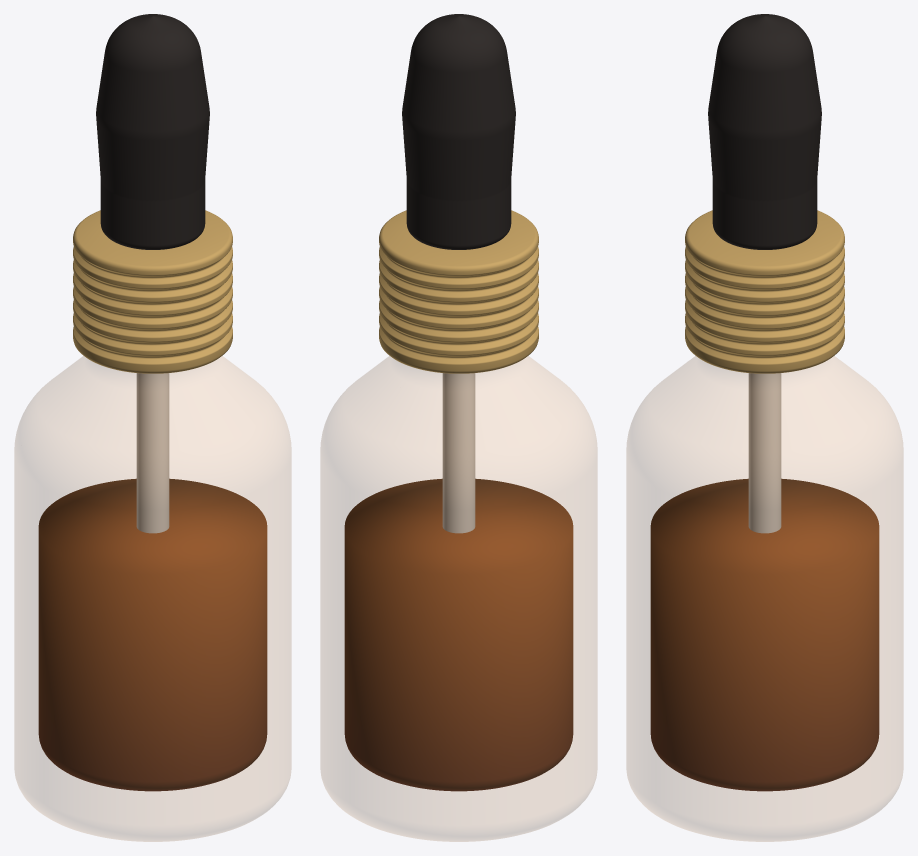
File: serum.glb
3 views of the same model, side by side, from view 1: azimuth 30°, elevation 25°; view 2: azimuth 150°, elevation 25°; view 3: azimuth 270°, elevation 25° (orthographic).
Parts seen in each view (by area): view 1: glass-body, liquid, bulb, collar, pipette; view 2: glass-body, liquid, bulb, collar, pipette; view 3: glass-body, liquid, bulb, collar, pipette.
Part boxes in pixels (<box>): glass-body: <box>14,356,291,841</box>; liquid: <box>38,478,267,791</box>; bulb: <box>96,14,209,249</box>; collar: <box>73,210,232,373</box>; pipette: <box>136,373,169,533</box>; glass-body: <box>320,356,597,841</box>; liquid: <box>344,478,573,791</box>; bulb: <box>402,14,515,249</box>; collar: <box>379,210,538,373</box>; pipette: <box>442,373,475,533</box>; glass-body: <box>626,356,903,841</box>; liquid: <box>650,478,879,791</box>; bulb: <box>708,14,821,249</box>; collar: <box>685,210,844,373</box>; pipette: <box>748,373,781,533</box>.
Size of the model in its own units: 0.34 by 1.05 by 0.34.
